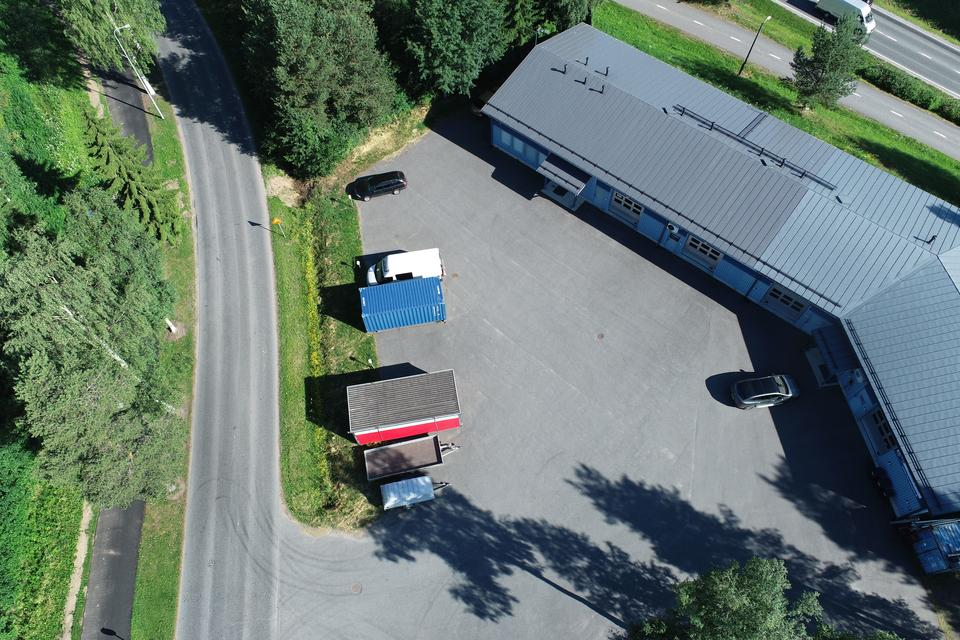intersection: (161, 476, 328, 640)
